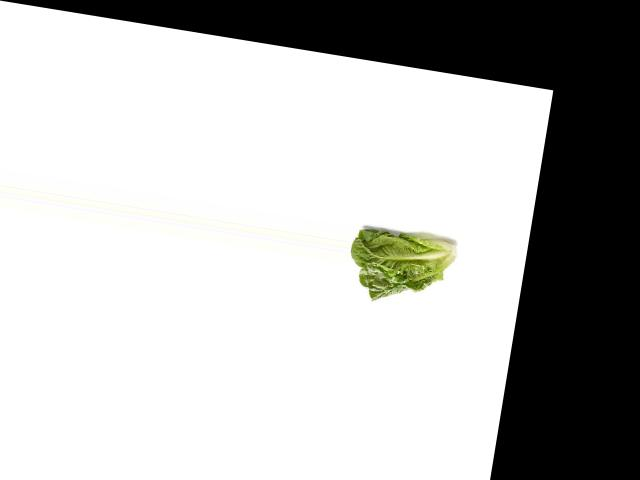lettuce: (343, 209, 465, 313)
